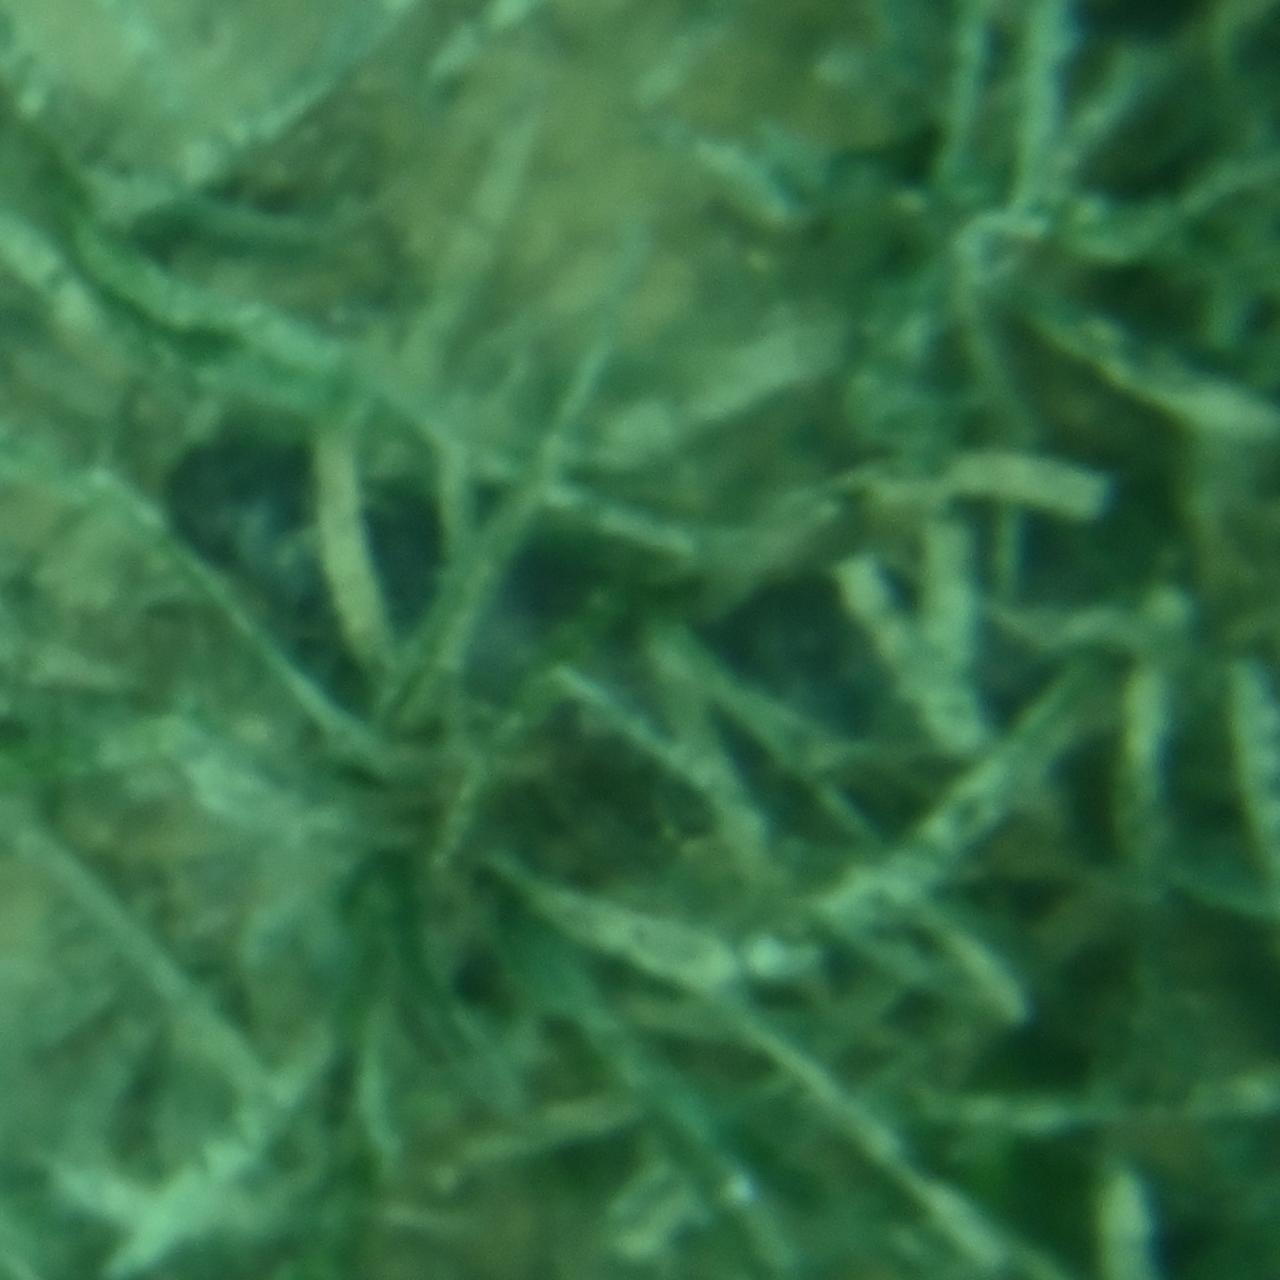Holothuria tubulosa: (154, 387, 1126, 893)
